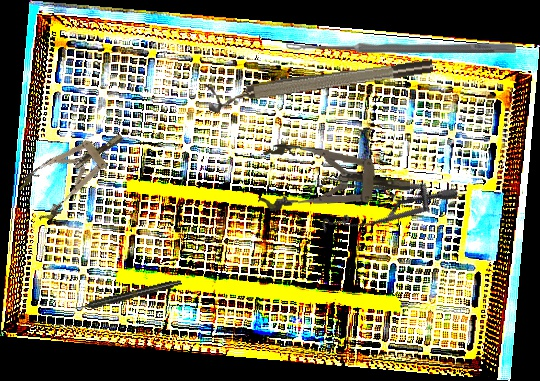Fixation Ring: (205, 55, 436, 114)
Handpiece: (72, 277, 183, 314)
Speculum: (297, 118, 461, 267), (14, 116, 137, 226), (257, 142, 413, 221)
Surgical Spoon: (285, 42, 516, 53)
